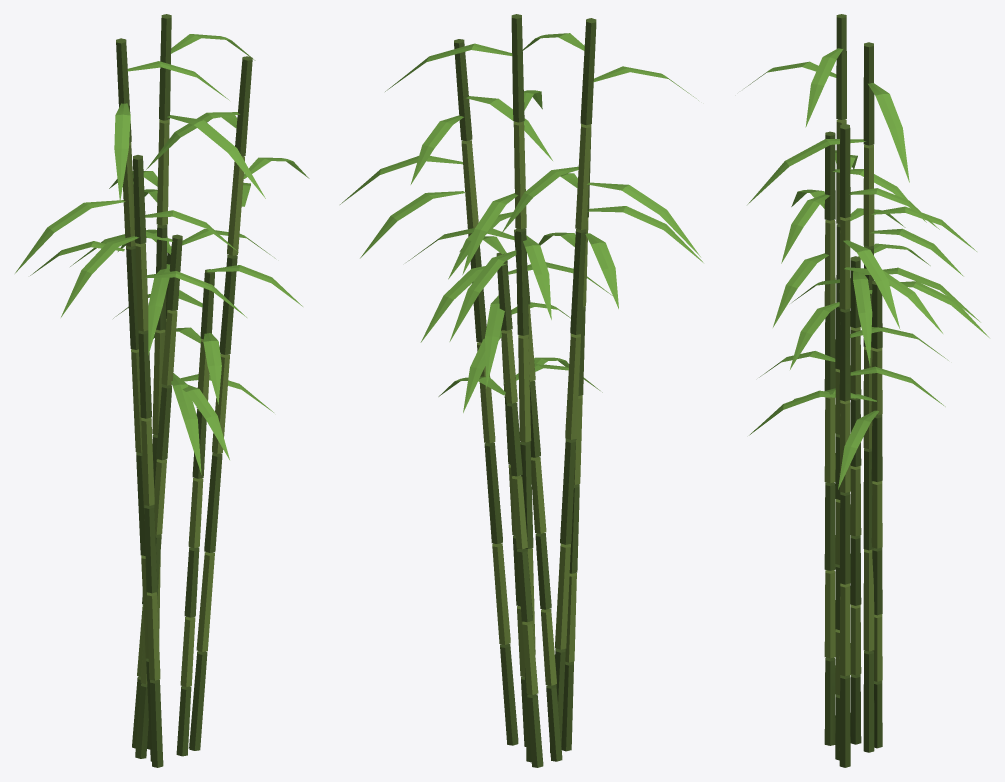
The model's file is BambooGrove.fbx.
The picture shows the model from 3 angles, left to right: view 1: azimuth 30°, elevation 25°; view 2: azimuth 150°, elevation 25°; view 3: azimuth 270°, elevation 25°; orthographic projection. The views are drawn at different scales.
Visible parts, largest first — view 1: BambooGrove; view 2: BambooGrove; view 3: BambooGrove.
Part boxes in pixels (x1,y1,x2,y2): BambooGrove: (15,14,309,767); BambooGrove: (340,14,703,767); BambooGrove: (744,14,989,767).
Bounding box in the file's own units: 3.23 × 6.88 × 2.24.
